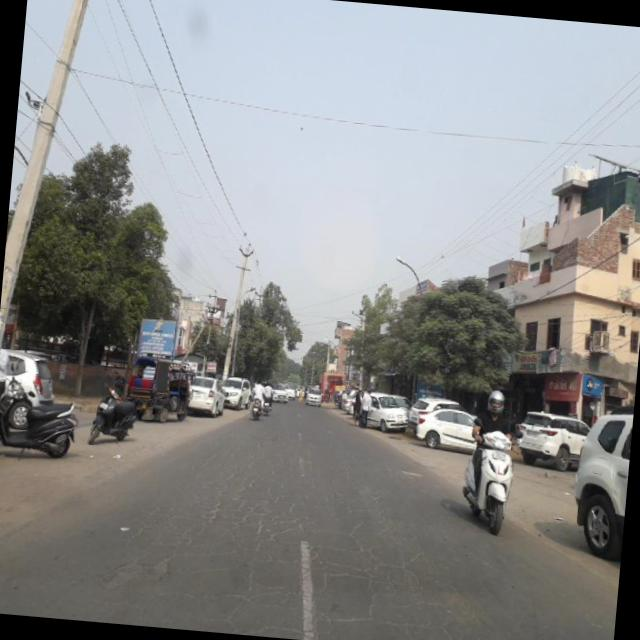crack: (127, 459, 498, 640)
